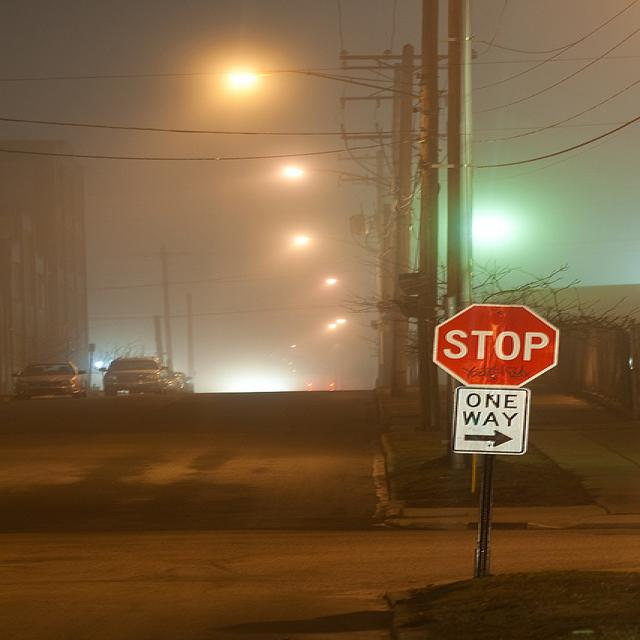Vehicle: (14, 359, 89, 398), (99, 356, 165, 397), (164, 365, 187, 393), (172, 372, 194, 394)
